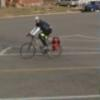bicycles: (20, 33, 62, 60)
